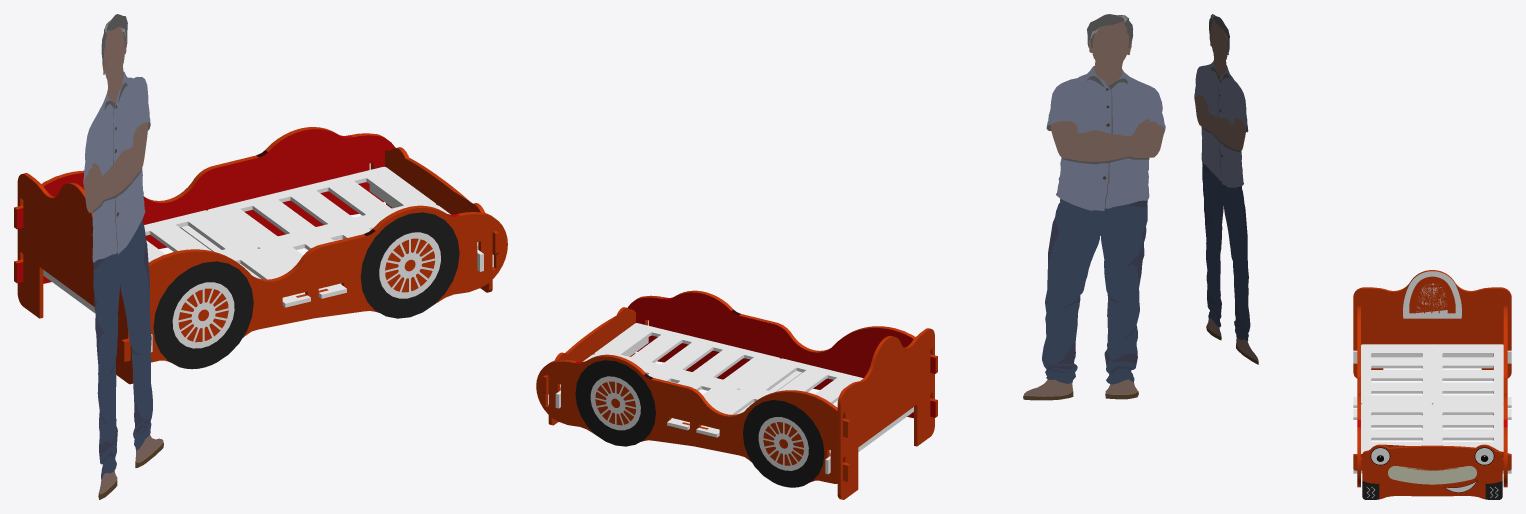
The model's file is racecar_bed.fbx.
3 renders of one model, left to right at view 1: azimuth 30°, elevation 25°; view 2: azimuth 150°, elevation 25°; view 3: azimuth 270°, elevation 25°, orthographic. The views are drawn at different scales.
Visible parts, largest first — view 1: Group_229_1, Niraj1, Group_229_2, Component_12_1, Group_230_1, Group_230_3, Component_14_1, Group_230_2, Group_230_4, Component_11_1; view 2: Niraj1, Group_229_2, Group_229_1, Component_12_1, Group_230_2, Group_230_4, Component_14_1, Group_230_1, Group_230_3; view 3: Niraj1, Component_12_1, Component_14_1, Group_230_3, Group_230_4, Group_230_1, Group_230_2, Group_229_2, Group_229_1, Component_13_2, Component_11_1.
Boxes of the visible parts, x1=… form: Group_229_1: x1=121, y1=205, x2=507, y2=369; Niraj1: x1=83, y1=14, x2=163, y2=499; Group_229_2: x1=14, y1=127, x2=395, y2=283; Component_12_1: x1=17, y1=173, x2=132, y2=384; Group_230_1: x1=208, y1=166, x2=436, y2=248; Group_230_3: x1=144, y1=210, x2=257, y2=262; Component_14_1: x1=385, y1=147, x2=499, y2=292; Group_230_2: x1=260, y1=205, x2=478, y2=270; Group_230_4: x1=227, y1=248, x2=289, y2=279; Component_11_1: x1=180, y1=225, x2=346, y2=307; Niraj1: x1=1023, y1=14, x2=1165, y2=400; Group_229_2: x1=536, y1=354, x2=850, y2=487; Group_229_1: x1=627, y1=290, x2=937, y2=418; Component_12_1: x1=837, y1=328, x2=934, y2=499; Group_230_2: x1=594, y1=323, x2=780, y2=389; Group_230_4: x1=739, y1=358, x2=863, y2=403; Component_14_1: x1=543, y1=307, x2=635, y2=425; Group_230_1: x1=560, y1=354, x2=737, y2=407; Group_230_3: x1=713, y1=389, x2=830, y2=456; Niraj1: x1=1194, y1=14, x2=1258, y2=364; Component_12_1: x1=1353, y1=270, x2=1511, y2=378; Component_14_1: x1=1353, y1=444, x2=1511, y2=499; Group_230_3: x1=1432, y1=344, x2=1503, y2=404; Group_230_4: x1=1361, y1=344, x2=1432, y2=404; Group_230_1: x1=1432, y1=403, x2=1503, y2=451; Group_230_2: x1=1361, y1=403, x2=1432, y2=453; Group_229_2: x1=1503, y1=306, x2=1507, y2=487; Group_229_1: x1=1357, y1=306, x2=1360, y2=487; Component_13_2: x1=1353, y1=350, x2=1511, y2=363; Component_11_1: x1=1353, y1=397, x2=1511, y2=419.
Size of the model in its own units: 84.68 by 70.5 by 62.75.
